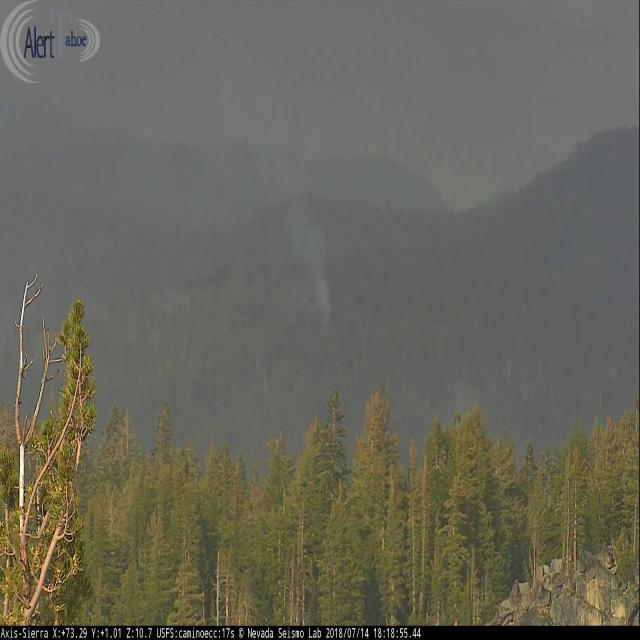smoke: (232, 128, 334, 331)
